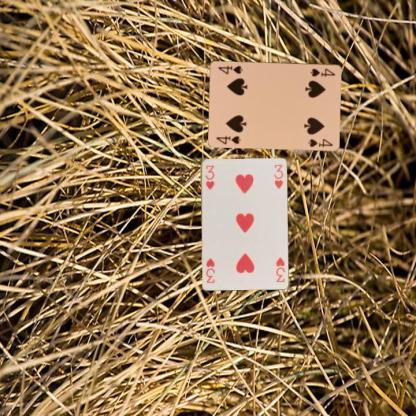3h: (273, 254, 286, 284), (203, 163, 215, 191)
4s: (214, 133, 243, 145), (308, 66, 336, 78)
